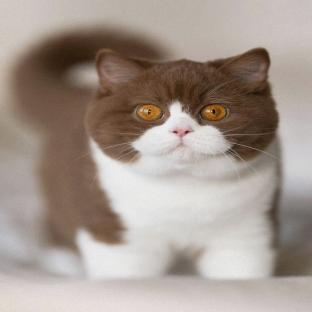Animal: (17, 34, 279, 279)
